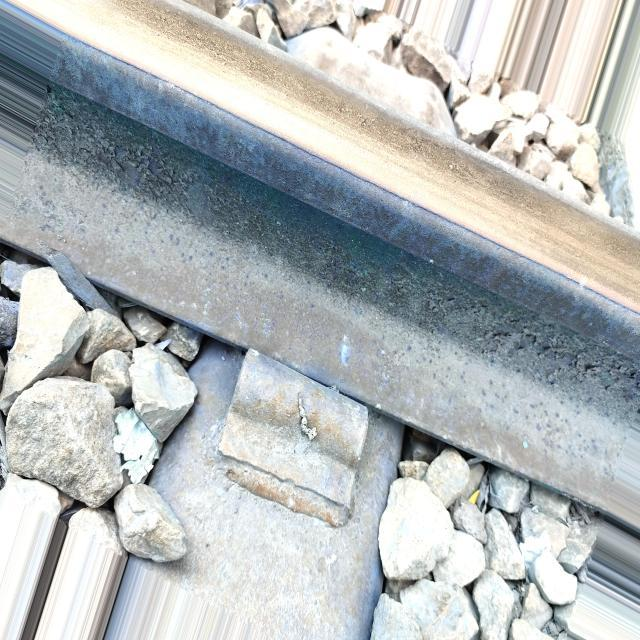Missing Fastener: (214, 319, 372, 525)
